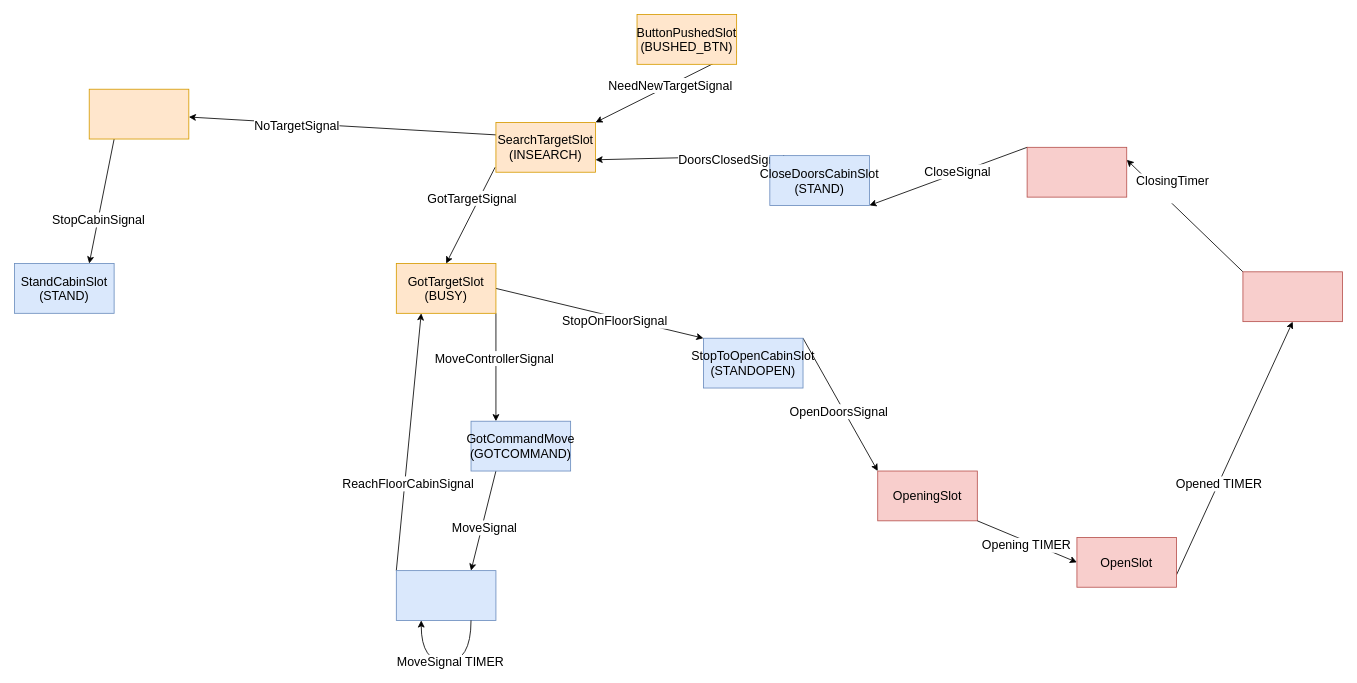
Image size: 1357x683. Some labels were removed from this diagram. The centre of each missing label's shape, as x and y in pixels:
ClosedSlot: point (1076, 171)
ClosingSlot: point (1292, 296)
FreeSlot: point (138, 113)
MoveCabinSlot (MOVING): point (445, 595)
